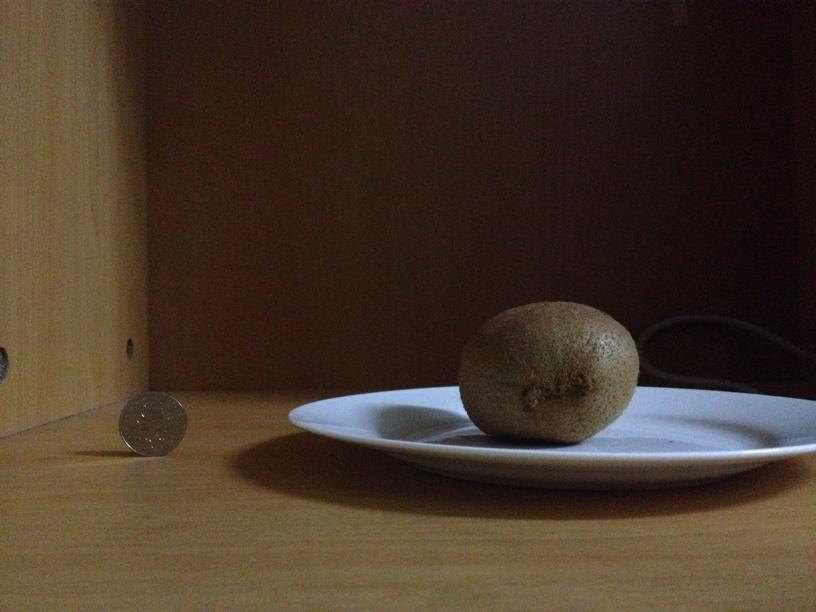coin: (111, 389, 189, 457)
qiwi: (457, 302, 638, 445)
